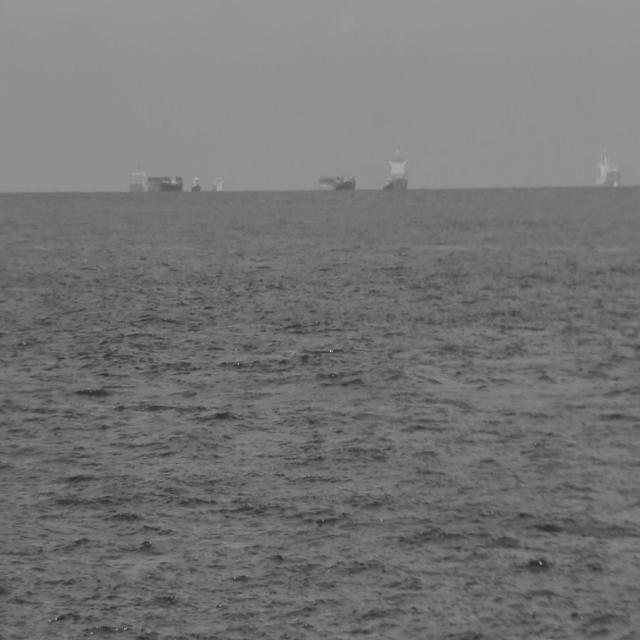ship: (130, 165, 183, 196), (380, 146, 410, 194), (594, 144, 621, 189), (317, 171, 357, 194), (190, 174, 202, 194)
